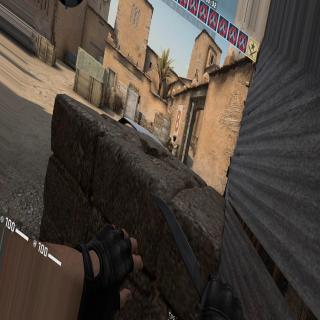CT-Body: (166, 132, 179, 156)
CT-Head: (173, 134, 176, 140)
